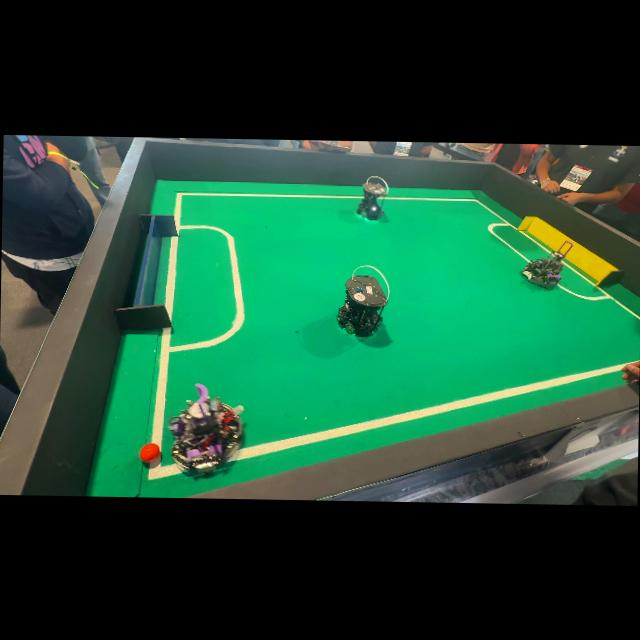ball: (139, 443, 160, 462)
goal: (518, 217, 623, 285), (116, 214, 177, 329)
robot: (169, 385, 242, 469), (336, 265, 389, 337), (522, 241, 573, 288), (356, 176, 388, 220)
